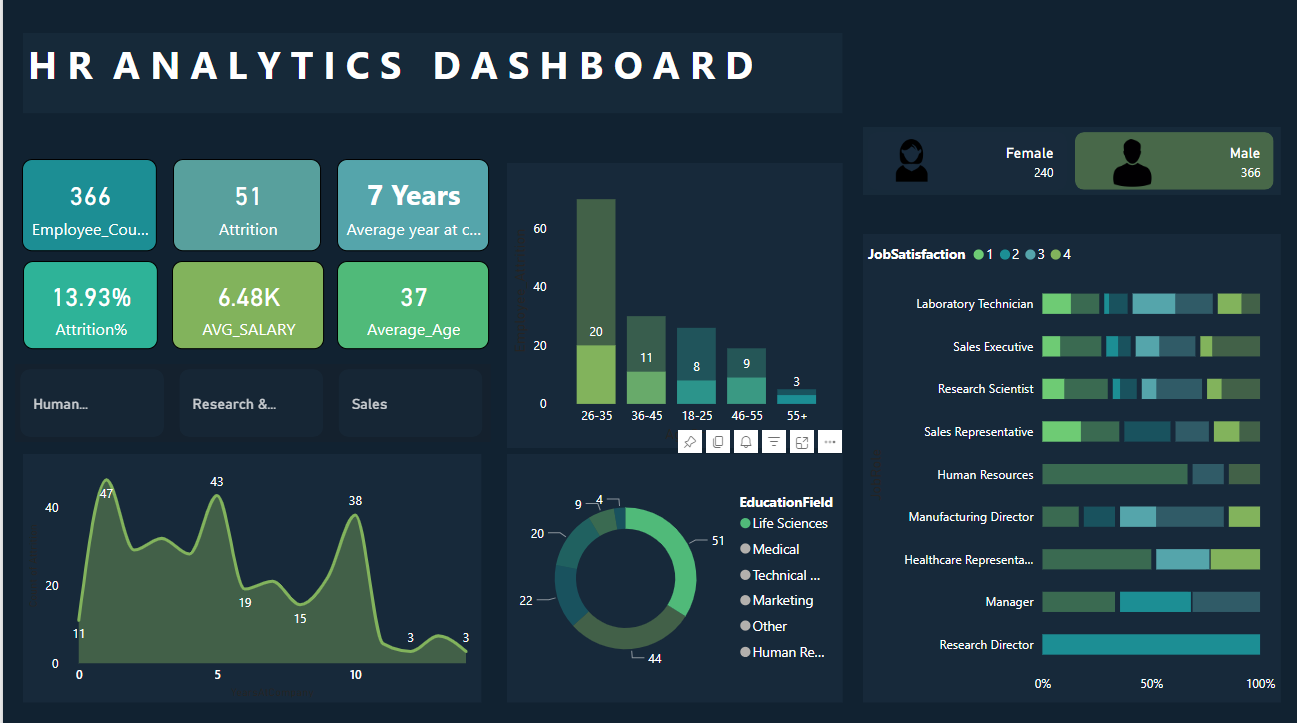

The page's visual inventory and layout, read from the dashboard file:
{"tool":"powerbi","page":{"name":"Page 1","canvas":[1280,720],"ordinal":0},"visuals":[{"type":"card","fields":{"Values":["HR_Analytics.Employee_Attrition"]},"box":[168,157.9,146.1,90.7],"z":0},{"type":"card","fields":{"Values":["HR_Analytics.Employee_Count"]},"box":[18.5,157.9,132.7,90.7],"z":1000},{"type":"card","fields":{"Values":["HR_Analytics.Years_With_Text"]},"box":[329.2,157.9,149.5,90.7],"z":2000},{"type":"card","fields":{"Values":["HR_Analytics.Attrition%"]},"box":[20.2,258.7,132.7,87.3],"z":3000},{"type":"card","fields":{"Values":["HR_Analytics.AVG_SALARY"]},"box":[166.3,258.7,149.5,87.3],"z":4000},{"type":"card","fields":{"Values":["HR_Analytics.Average_Age"]},"box":[329.2,258.7,149.5,87.3],"z":5000},{"type":"areaChart","fields":{"Y":["CountNonNull(HR_Analytics.Attrition)"],"Category":["HR_Analytics.YearsAtCompany"]},"box":[20.2,448.5,451.9,245.2],"z":6000},{"type":"donutChart","fields":{"Y":["HR_Analytics.Employee_Attrition"],"Category":["HR_Analytics.EducationField"]},"box":[497.2,448.5,330.9,245.2],"z":7000},{"type":"columnChart","fields":{"Category":["HR_Analytics.AgeGroup"],"Y":["HR_Analytics.Employee_Attrition"]},"box":[497.2,161.3,330.9,280.5],"z":8000},{"type":"hundredPercentStackedBarChart","fields":{"Y":["HR_Analytics.Employee_Attrition"],"Series":["HR_Analytics.JobSatisfaction"],"Category":["HR_Analytics.JobRole"]},"box":[848.3,231.8,411.5,461.9],"z":9000},{"type":"advancedSlicerVisual","fields":{"Values":["HR_Analytics.Gender"]},"box":[848.3,126,411.5,67.2],"z":10000},{"type":"image","box":[848.3,132.7,95.7,52.1],"z":11000},{"type":"image","box":[1054.9,132.7,117.6,57.1],"z":12000},{"type":"advancedSlicerVisual","fields":{"Values":["HR_Analytics.Department"]},"box":[11.8,359.5,468.7,77.3],"z":13000},{"type":"textbox","box":[20.2,33.6,808,79],"z":13001}]}

Visuals, with their boxes in screenshot pixels (x1, y1, x2, y2), scaled from the page's 1280x720 canvas onto the 1297x723 screenshot:
card - HR_Analytics.Employee_Attrition: 170/159/318/250
card - HR_Analytics.Employee_Count: 19/159/153/250
card - HR_Analytics.Years_With_Text: 334/159/485/250
card - HR_Analytics.Attrition%: 20/260/155/347
card - HR_Analytics.AVG_SALARY: 169/260/320/347
card - HR_Analytics.Average_Age: 334/260/485/347
areaChart - CountNonNull(HR_Analytics.Attrition) x HR_Analytics.YearsAtCompany: 20/450/478/697
donutChart - HR_Analytics.Employee_Attrition x HR_Analytics.EducationField: 504/450/839/697
columnChart - HR_Analytics.AgeGroup x HR_Analytics.Employee_Attrition: 504/162/839/444
hundredPercentStackedBarChart - HR_Analytics.Employee_Attrition x HR_Analytics.JobSatisfaction: 860/233/1277/697
advancedSlicerVisual - HR_Analytics.Gender: 860/127/1277/194
image: 860/133/957/186
image: 1069/133/1188/191
advancedSlicerVisual - HR_Analytics.Department: 12/361/487/439
textbox: 20/34/839/113
